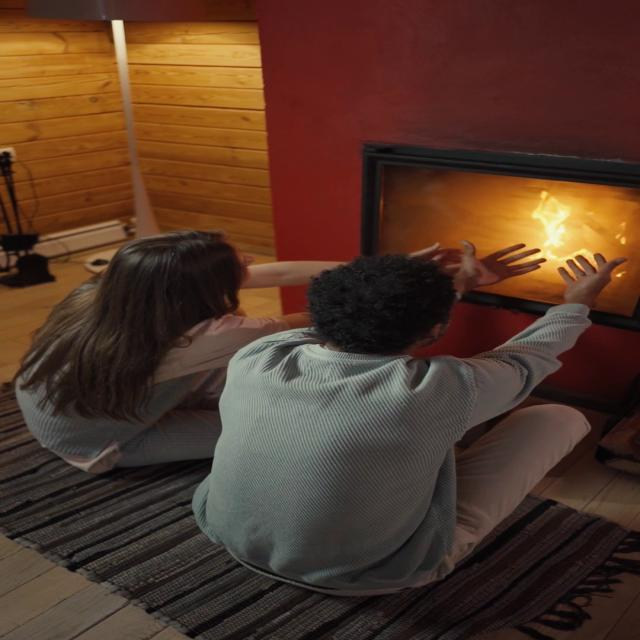Fire: (504, 186, 598, 266)
